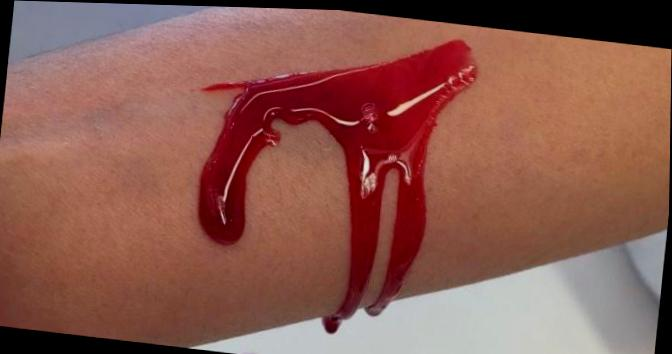Fire: (198, 35, 479, 331)
